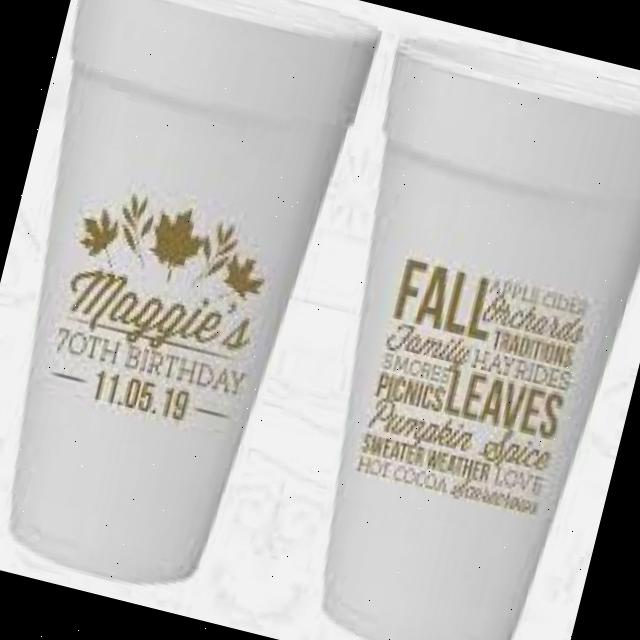trash: (253, 22, 640, 640), (0, 0, 379, 608)
